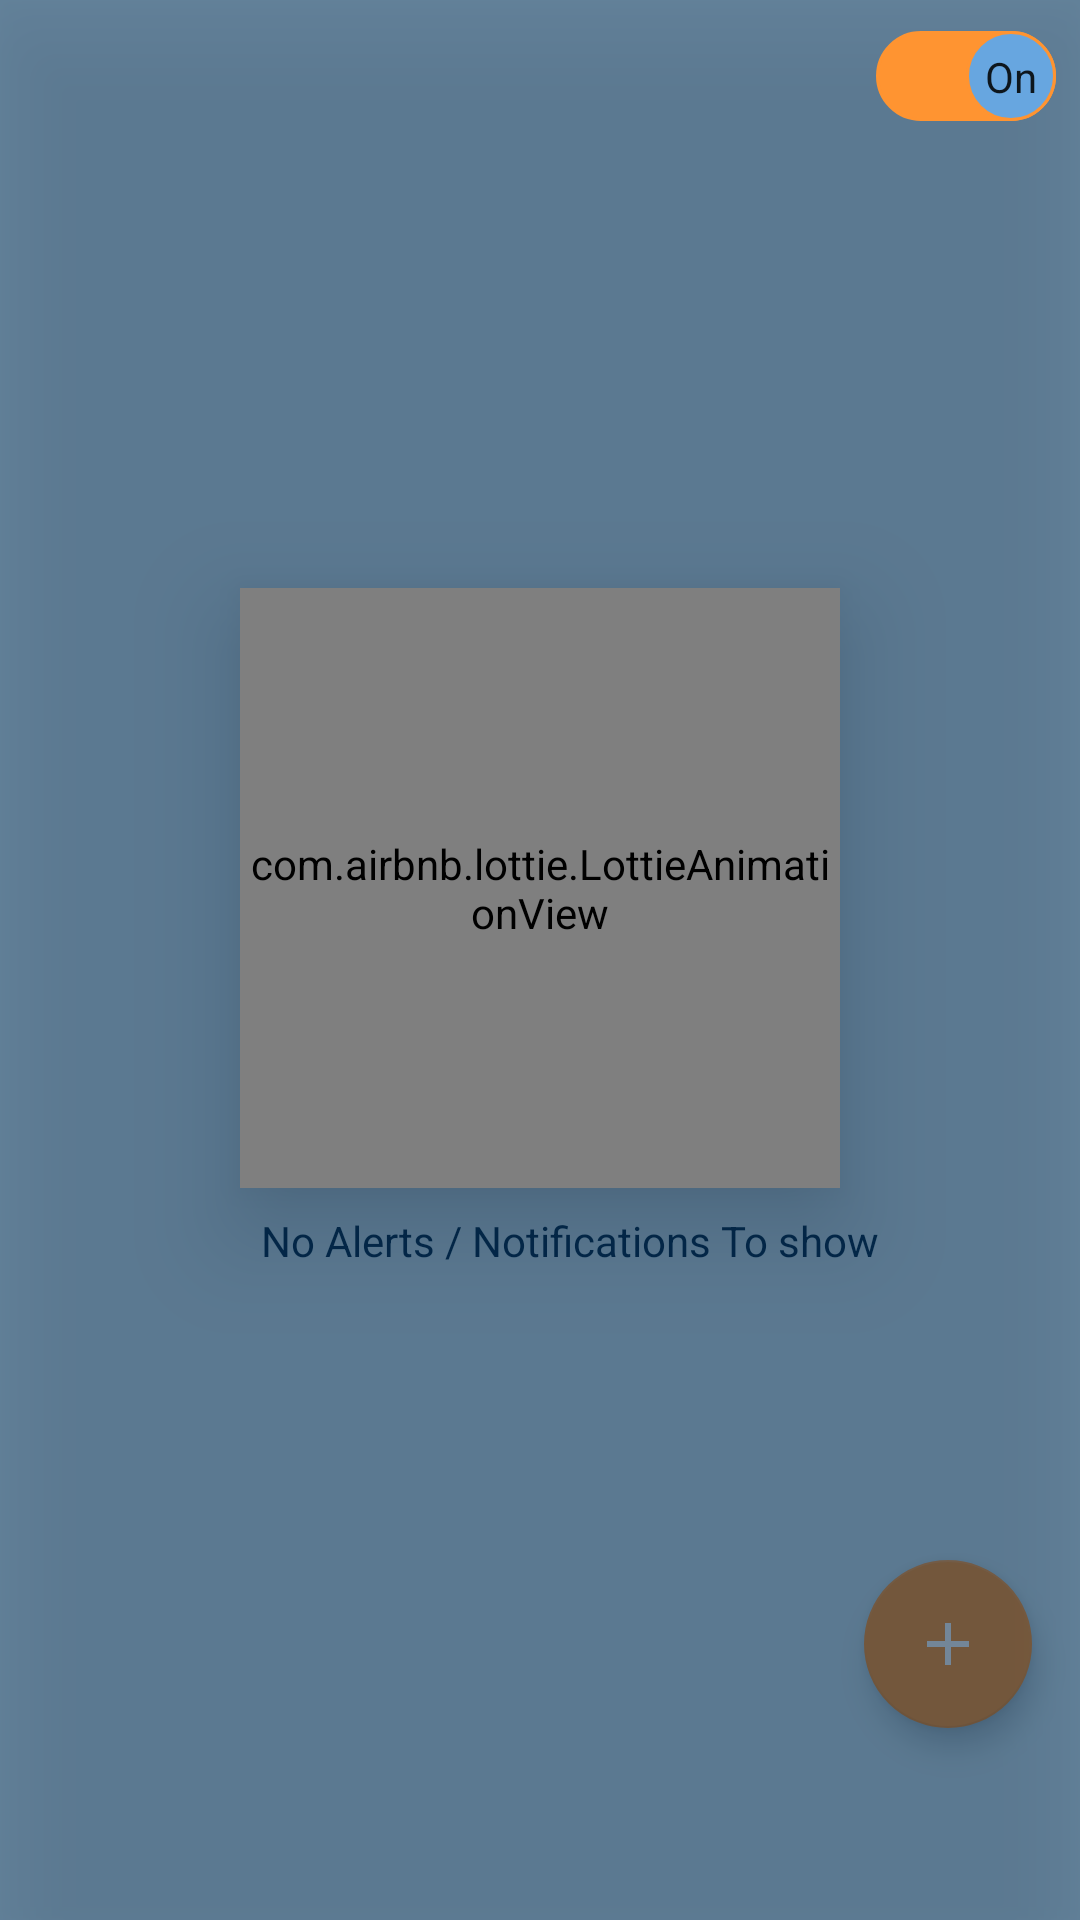

Icons on this 1080px x 1920px Android screen, each with its box as bbox(x1, y1, x2, y2):
add: bbox(864, 1560, 1032, 1728)
